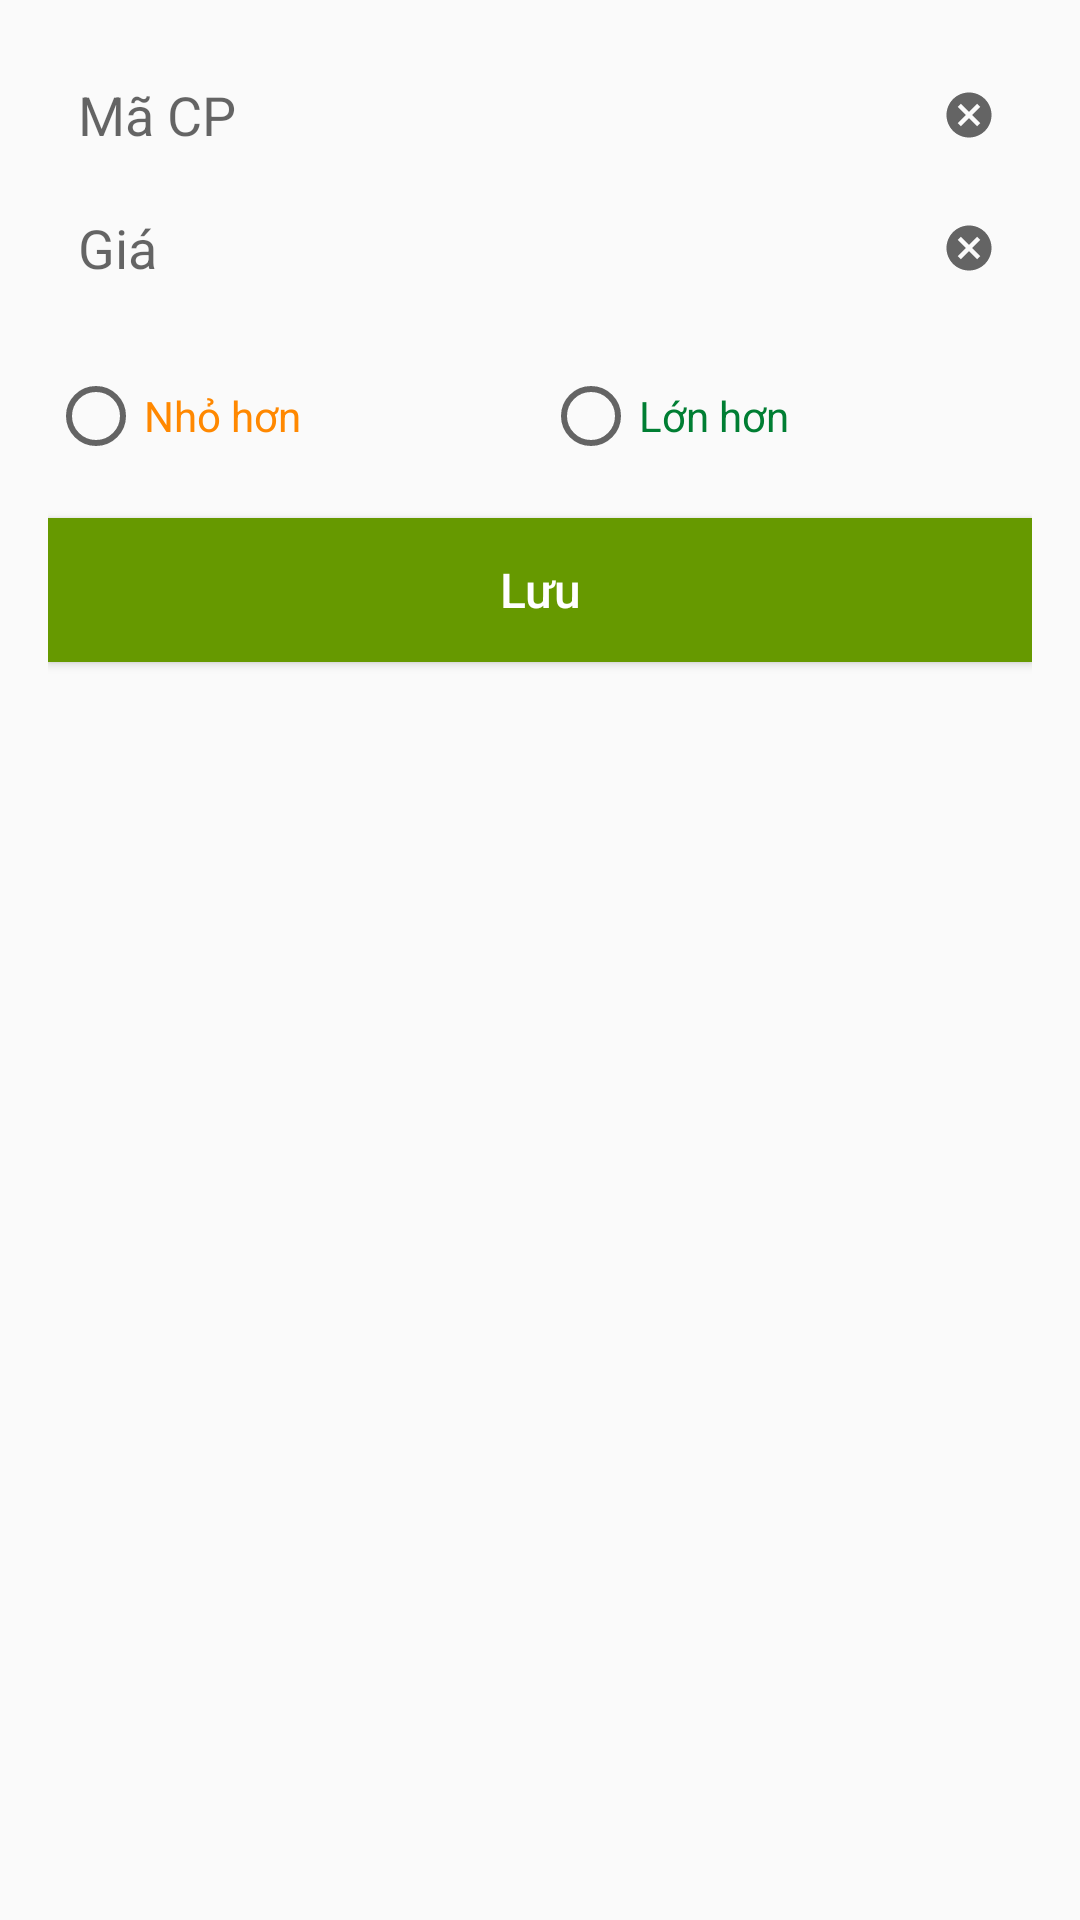

Named icons in this screenshot (1080x1920) and their bounding boxes, [x1,y1,x2,y2]:
cancel: [946,92,992,138], [946,225,992,271]
